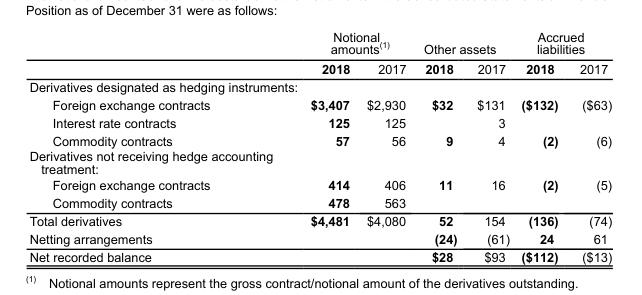table: (28, 29, 611, 263)
table column: (28, 29, 259, 263), (259, 29, 357, 263), (357, 29, 414, 263), (514, 29, 568, 263), (414, 29, 466, 263), (466, 29, 514, 263), (568, 29, 611, 263)
table column header: (28, 29, 611, 77)
table projected row header: (28, 147, 611, 176), (28, 77, 611, 95)
table row: (28, 29, 611, 58), (28, 147, 611, 176), (28, 58, 611, 77), (28, 77, 611, 95), (28, 95, 611, 113), (28, 113, 611, 131), (28, 193, 611, 211), (28, 211, 611, 229), (28, 229, 611, 247), (28, 176, 611, 193), (28, 131, 611, 147), (28, 247, 611, 263)
table spanning cell: (259, 29, 414, 58), (414, 29, 514, 58), (514, 29, 611, 58)
